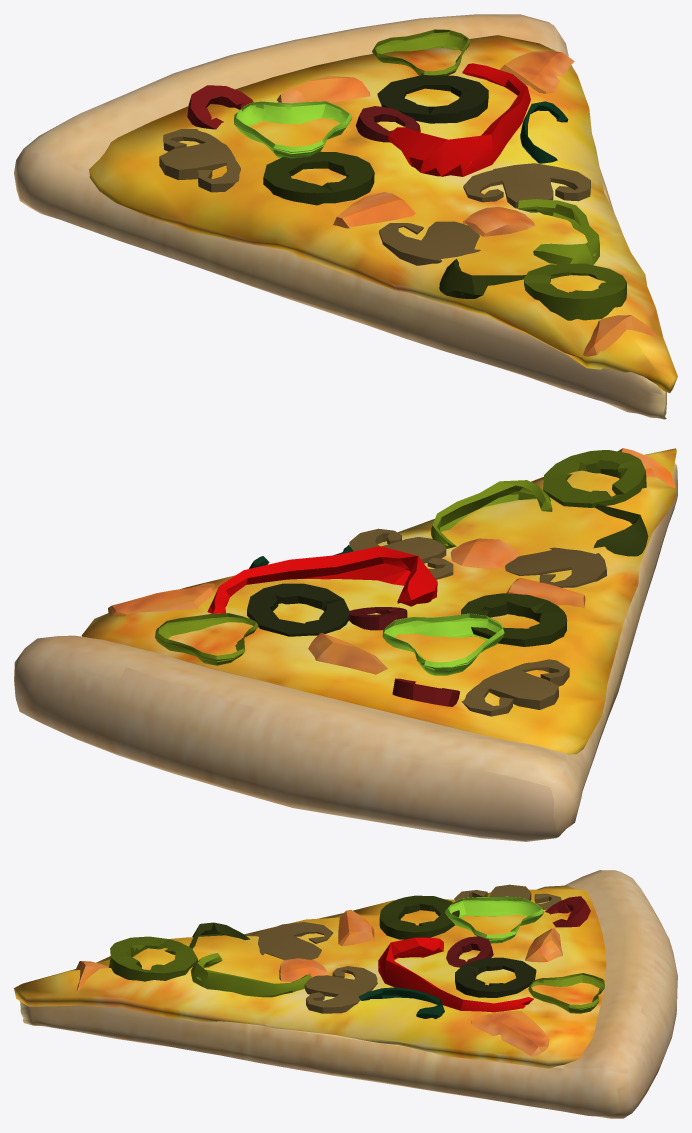
The model's file is pizza_0.glb.
3 renders of one model, top to bottom at view 1: azimuth 30°, elevation 25°; view 2: azimuth 150°, elevation 25°; view 3: azimuth 270°, elevation 25°, orthographic. The views are drawn at different scales.
Parts seen in each view (by area): view 1: 03c190dcf15e4ee7b9398576313b4981; view 2: 03c190dcf15e4ee7b9398576313b4981; view 3: 03c190dcf15e4ee7b9398576313b4981.
Boxes of the visible parts, x1,y1,x2,y2 form: 03c190dcf15e4ee7b9398576313b4981: (14,14,677,419); 03c190dcf15e4ee7b9398576313b4981: (14,448,677,841); 03c190dcf15e4ee7b9398576313b4981: (14,870,677,1118).
Bounding box in the file's own units: 0.7494 × 0.1451 × 1.
Materials: 1 (1 with a texture image).
